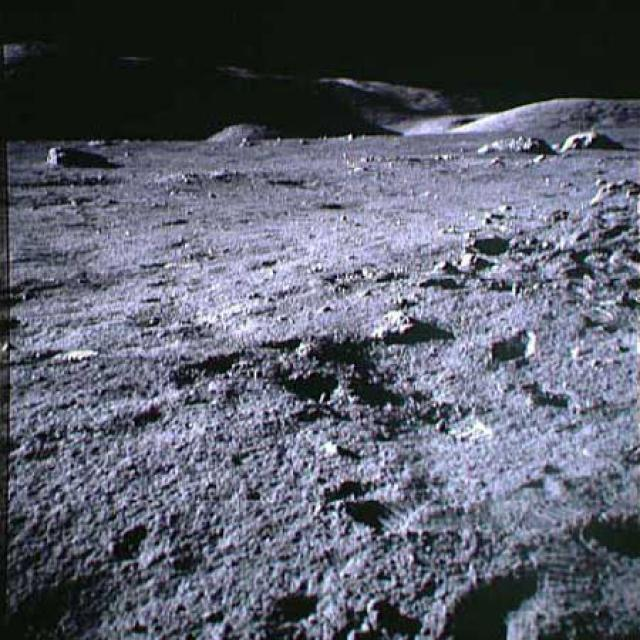crater: (316, 198, 364, 212)
rock: (472, 130, 554, 154), (364, 305, 420, 339), (560, 130, 628, 154), (43, 144, 108, 164), (466, 231, 507, 250), (456, 252, 494, 270)
